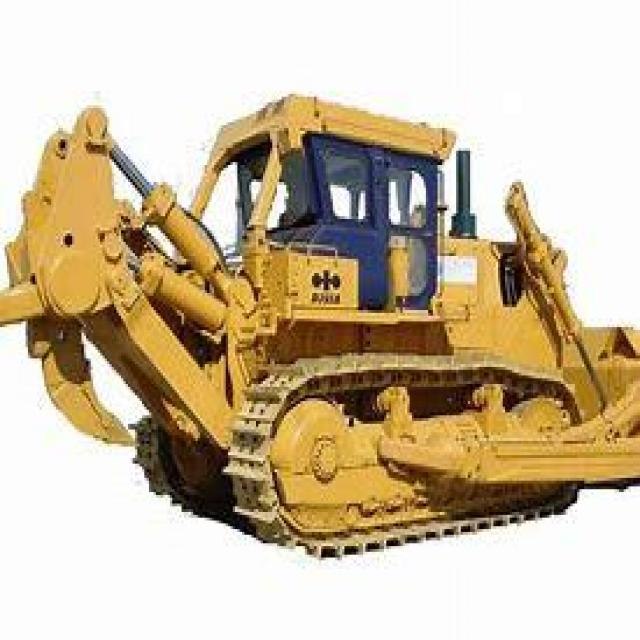Bulldozer: (5, 77, 638, 580)
